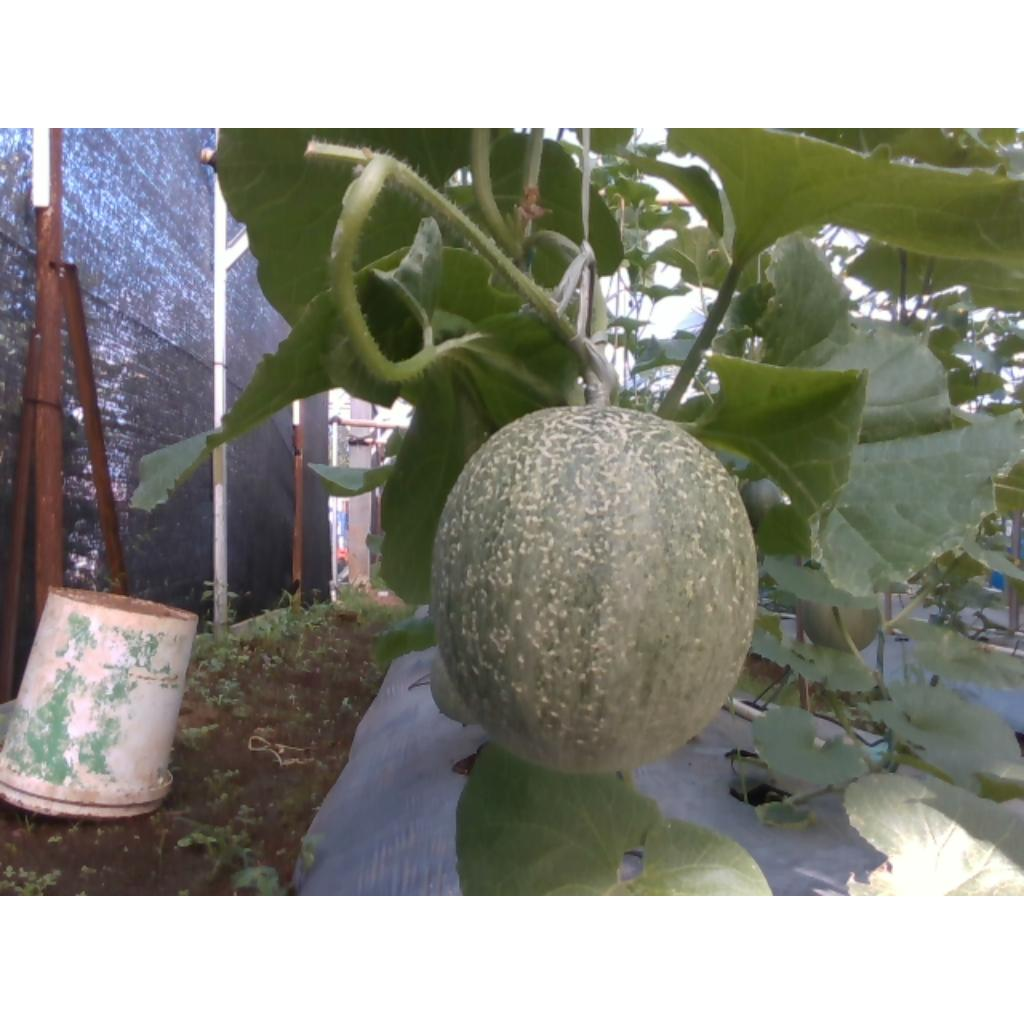melon: (434, 406, 760, 774)
